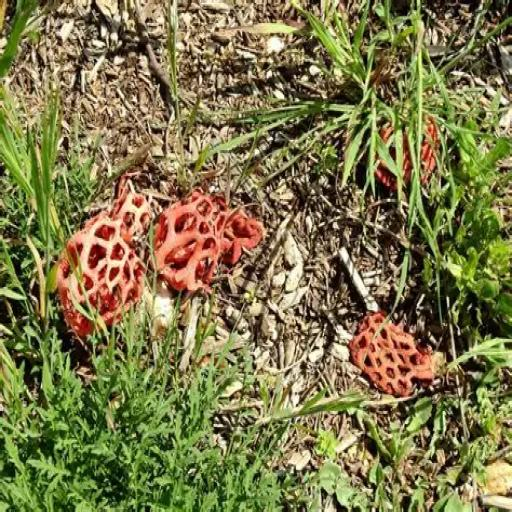Red Cage Fungus: (27, 206, 166, 343), (138, 180, 234, 305), (337, 299, 442, 403), (98, 170, 164, 246), (215, 213, 261, 274)
